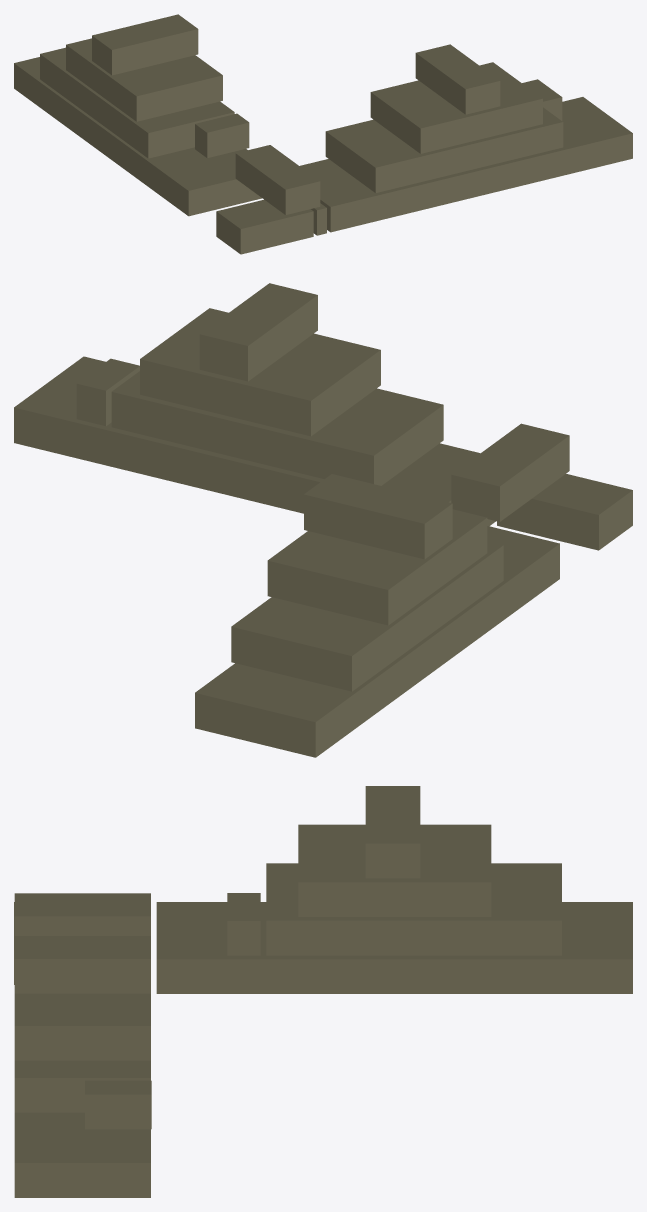
The model's file is SM_PretilEsquina_v1_Talud_e1_Danado_LOD1.fbx.
3 views of the same model, one above another, from view 1: azimuth 30°, elevation 25°; view 2: azimuth 150°, elevation 25°; view 3: azimuth 270°, elevation 25° (orthographic). The views are drawn at different scales.
Parts seen in each view (by area): view 1: SM_pretil_azotea_v25_LOD1; view 2: SM_pretil_azotea_v25_LOD1; view 3: SM_pretil_azotea_v25_LOD1.
Part boxes in pixels (left/top/right/bottom): SM_pretil_azotea_v25_LOD1: left=14, top=14, right=632, bottom=254; SM_pretil_azotea_v25_LOD1: left=14, top=283, right=632, bottom=757; SM_pretil_azotea_v25_LOD1: left=14, top=786, right=632, bottom=1197.
Size of the model in its own units: 4.36 by 1.17 by 4.37.
